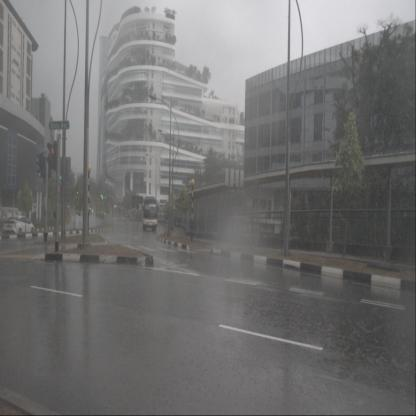vehicle-bus-rigid: (142, 196, 158, 231)
vehicle-car: (3, 215, 35, 235)
